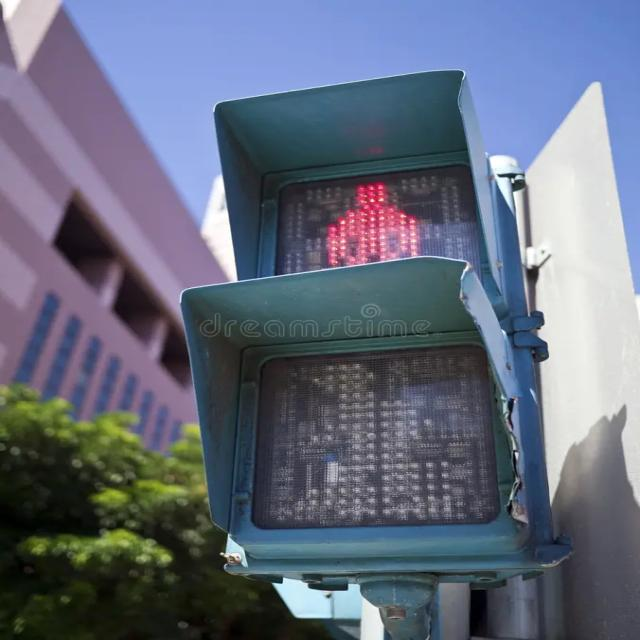red: (266, 120, 468, 317)
